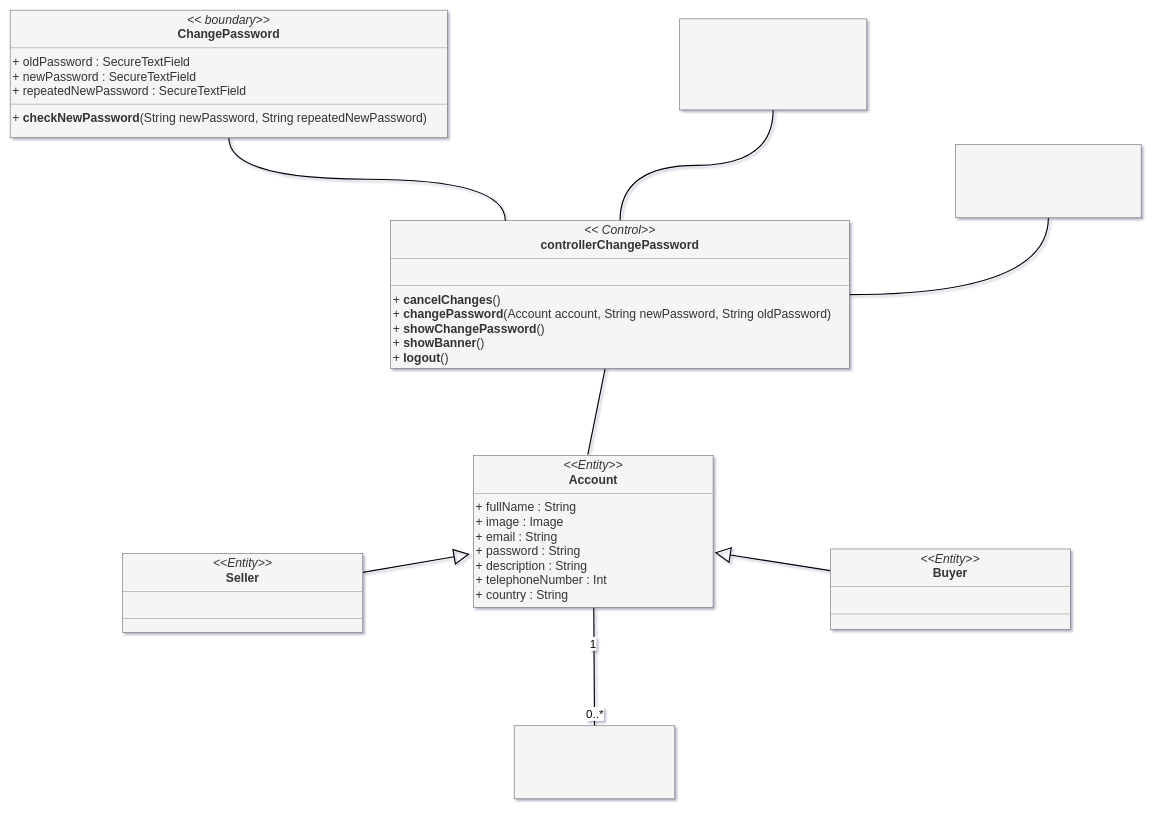
Image size: 1155x813. Some labels were removed from this diagram. Each missing label, with the centre of its shape:
<< boundary >> EditProfile + saveButton : button + closeButton : button: (x=773, y=64)
<< boundary >> feedbackOnSave + message : Text: (x=1048, y=181)
<<Entity>> SocialLink + link : String: (x=594, y=762)
